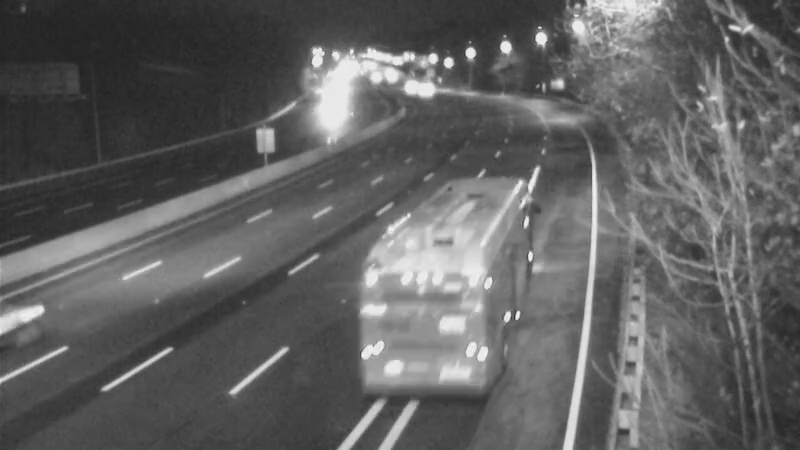vehicle: (422, 220, 502, 300), (364, 50, 414, 100), (350, 51, 400, 101), (388, 62, 438, 112), (399, 64, 449, 114), (299, 82, 349, 132)
